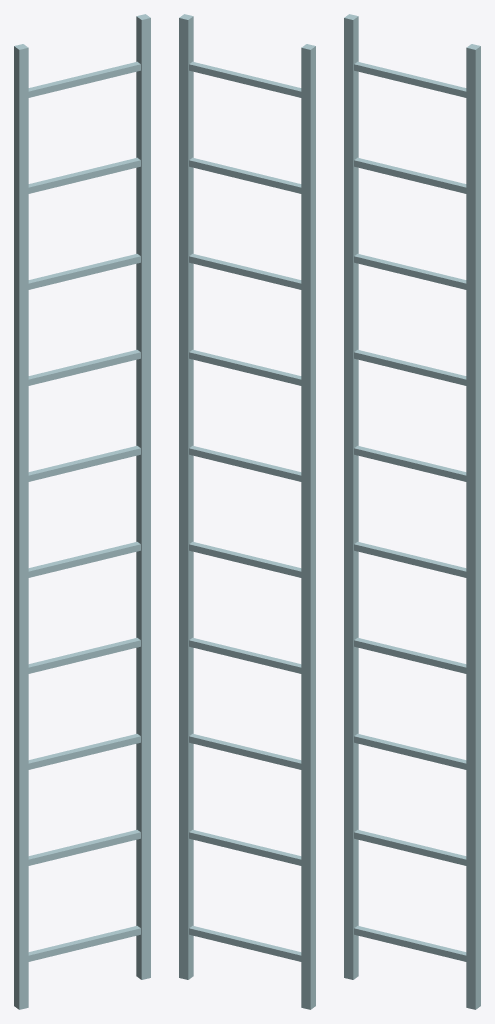
Rendered from sampleLadder.FBX.
3 views of the same model, side by side, from view 1: azimuth 30°, elevation 25°; view 2: azimuth 150°, elevation 25°; view 3: azimuth 330°, elevation 25° (orthographic).
Parts seen in each view (by area): view 1: SampleLadder; view 2: SampleLadder; view 3: SampleLadder.
Part boxes in pixels (left/top/right/bottom): SampleLadder: left=14, top=14, right=150, bottom=1009; SampleLadder: left=179, top=14, right=315, bottom=1009; SampleLadder: left=344, top=14, right=480, bottom=1009.
Bounding box in the file's own units: 43 × 300 × 3.
